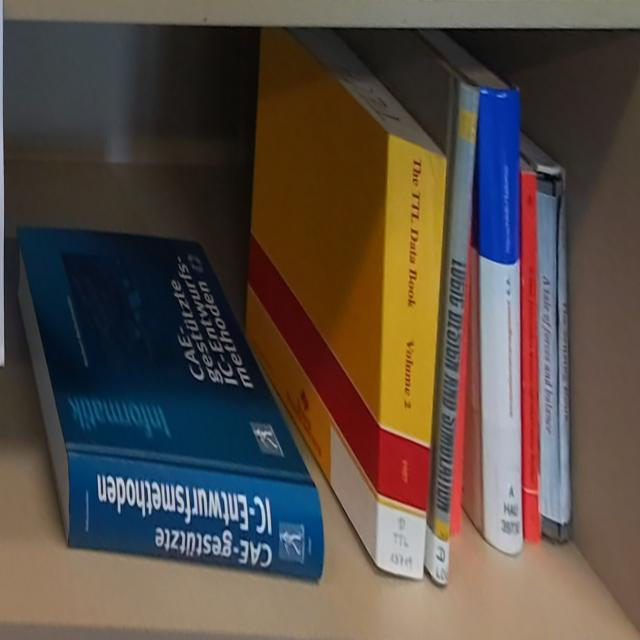Book Spine: (67, 449, 328, 588), (375, 138, 448, 587), (428, 81, 481, 589), (477, 88, 526, 559), (534, 173, 561, 542), (521, 169, 540, 543), (556, 174, 573, 544)
